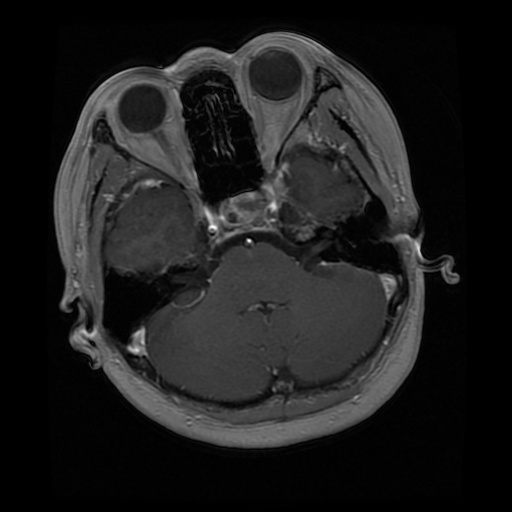pituitary: (211, 187, 283, 237)
